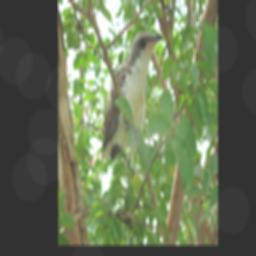Cuckoo: (101, 30, 162, 167)
